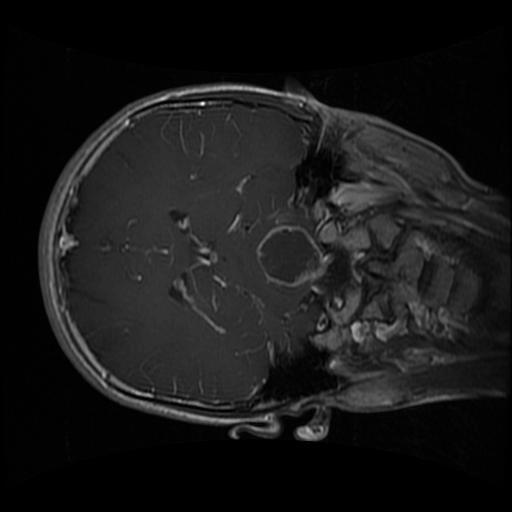glioma: (254, 223, 332, 287)
